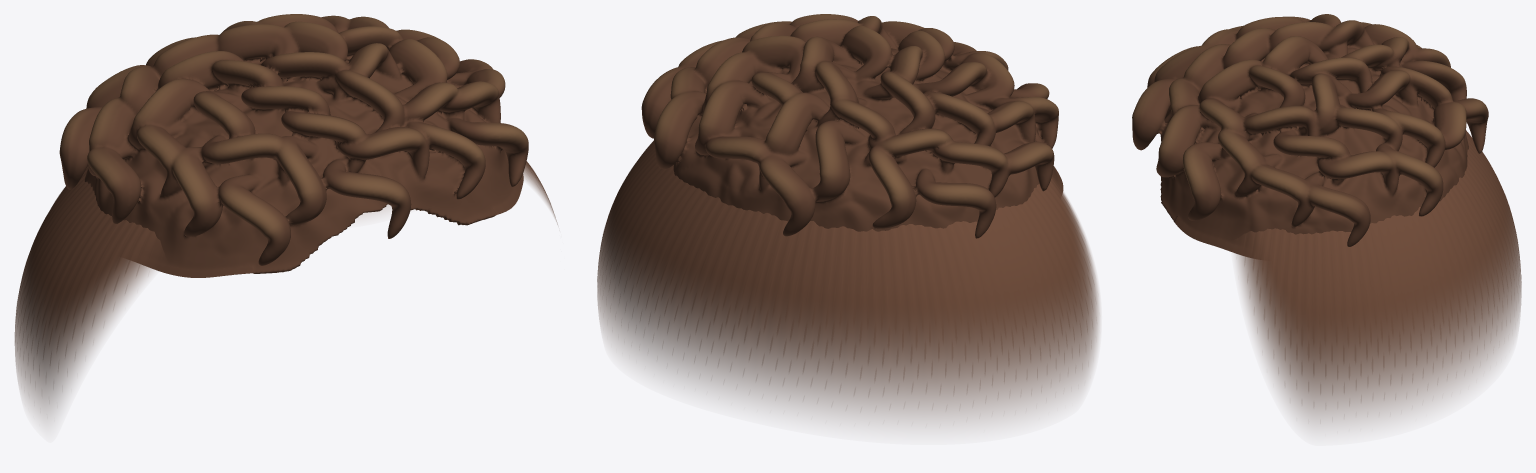
Rendered from Masculine-curly-top-ears257-hair-ombre.glb.
3 renders of one model, left to right at view 1: azimuth 30°, elevation 25°; view 2: azimuth 150°, elevation 25°; view 3: azimuth 270°, elevation 25°, orthographic. The views are drawn at different scales.
Parts seen in each view (by area): view 1: 226 hair / Hair252 / sculpted curl groups, 226 hair / Hair257 / smooth side fade, 226 hair / Hair257 / directional fade marks; view 2: 226 hair / Hair257 / smooth side fade, 226 hair / Hair252 / sculpted curl groups, 226 hair / Hair257 / directional fade marks; view 3: 226 hair / Hair252 / sculpted curl groups, 226 hair / Hair257 / smooth side fade, 226 hair / Hair257 / directional fade marks.
Boxes of the visible parts, box(x1,y1,x2,y2) form: 226 hair / Hair252 / sculpted curl groups: box(59, 14, 528, 277); 226 hair / Hair257 / smooth side fade: box(15, 161, 557, 419); 226 hair / Hair257 / directional fade marks: box(16, 162, 534, 370); 226 hair / Hair257 / smooth side fade: box(597, 141, 1099, 424); 226 hair / Hair252 / sculpted curl groups: box(641, 14, 1063, 238); 226 hair / Hair257 / directional fade marks: box(602, 141, 1091, 393); 226 hair / Hair252 / sculpted curl groups: box(1132, 14, 1488, 258); 226 hair / Hair257 / smooth side fade: box(1234, 130, 1521, 426); 226 hair / Hair257 / directional fade marks: box(1244, 130, 1518, 393).
Bounding box in the file's own units: 0.9723 × 0.665 × 0.7499.
